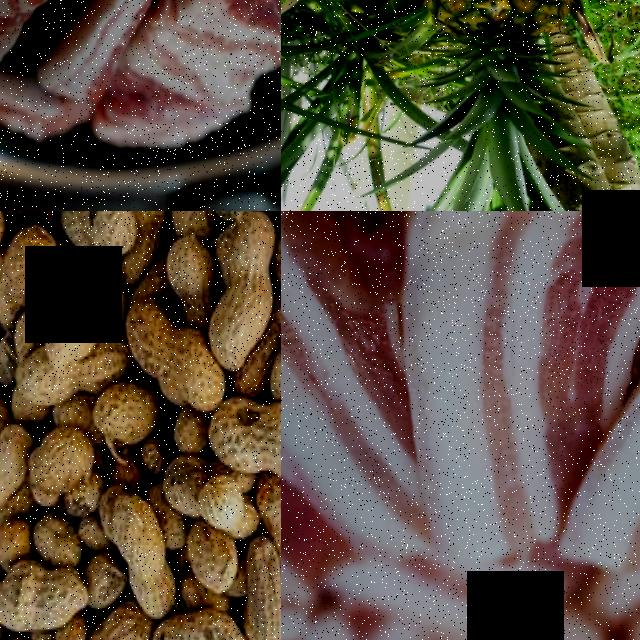peanuts: (204, 213, 279, 344), (128, 320, 225, 417), (98, 496, 167, 606), (0, 558, 78, 640), (218, 396, 281, 496), (20, 423, 93, 500), (0, 222, 59, 311), (231, 539, 281, 640), (85, 385, 155, 455), (174, 527, 235, 603), (70, 211, 141, 265), (139, 609, 237, 640), (0, 432, 24, 519)
pineapple: (407, 0, 576, 82)
pork belly: (375, 211, 594, 576), (546, 266, 640, 599), (107, 0, 281, 160)
